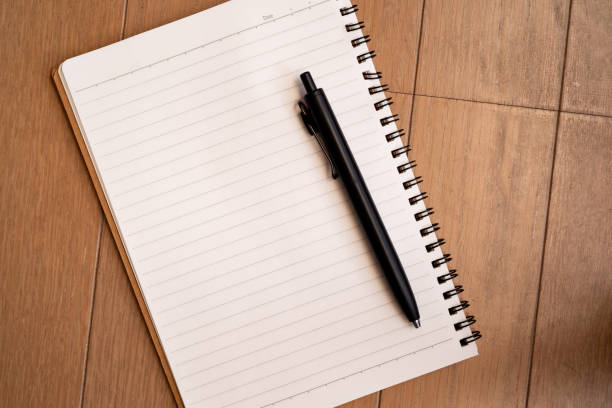pen: (284, 65, 424, 335)
